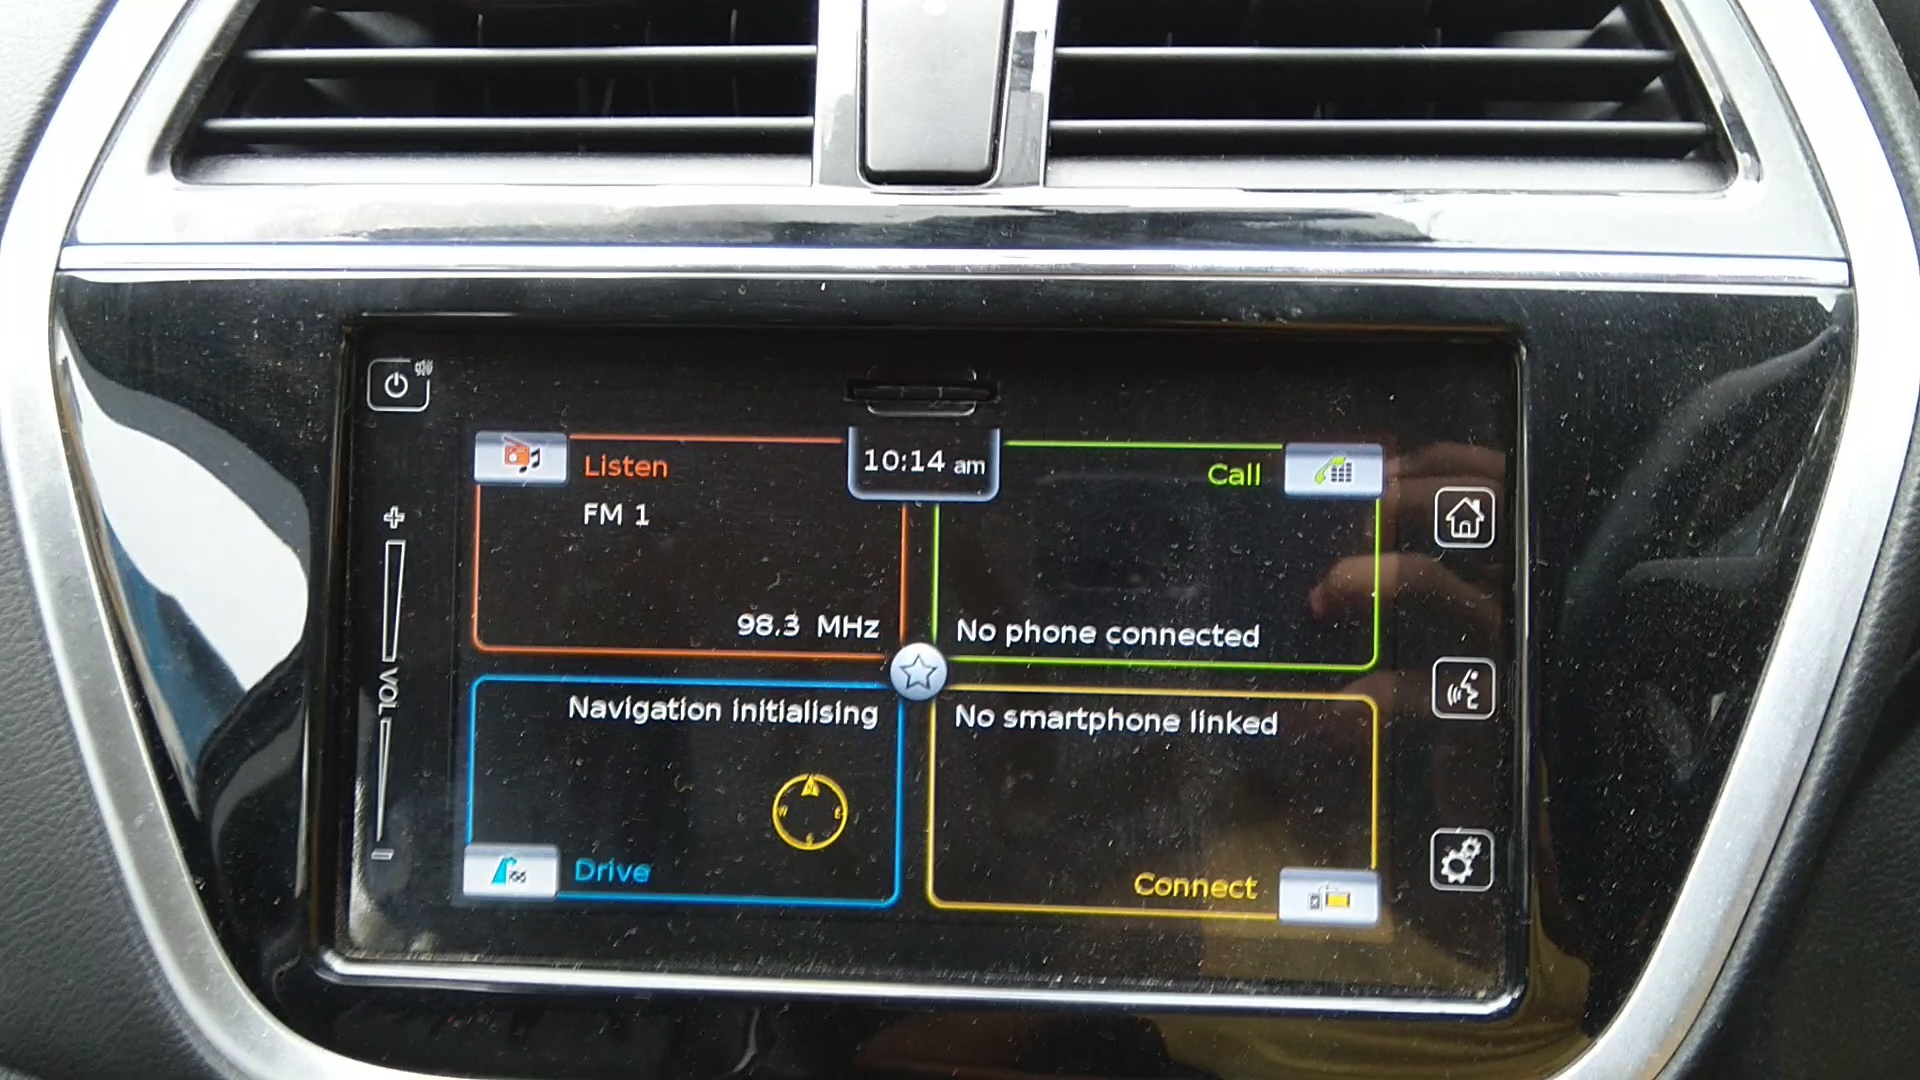touch_infotainment: (281, 295, 1556, 1033)
